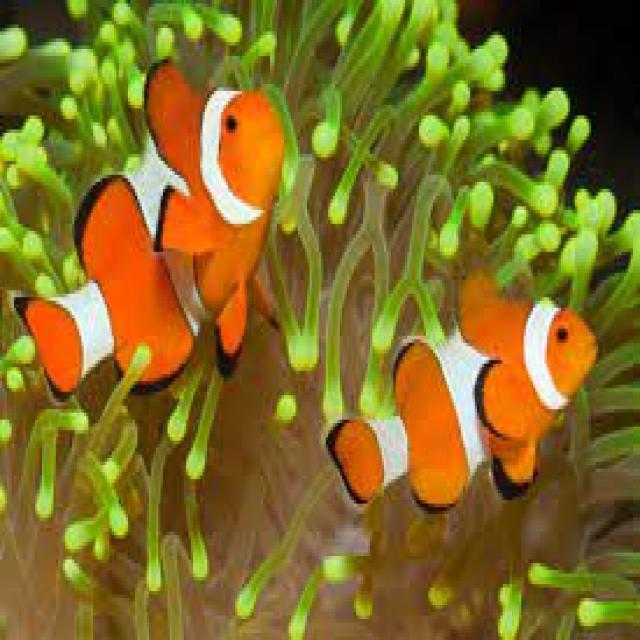ClownFish: (14, 56, 287, 404), (327, 273, 596, 513)
